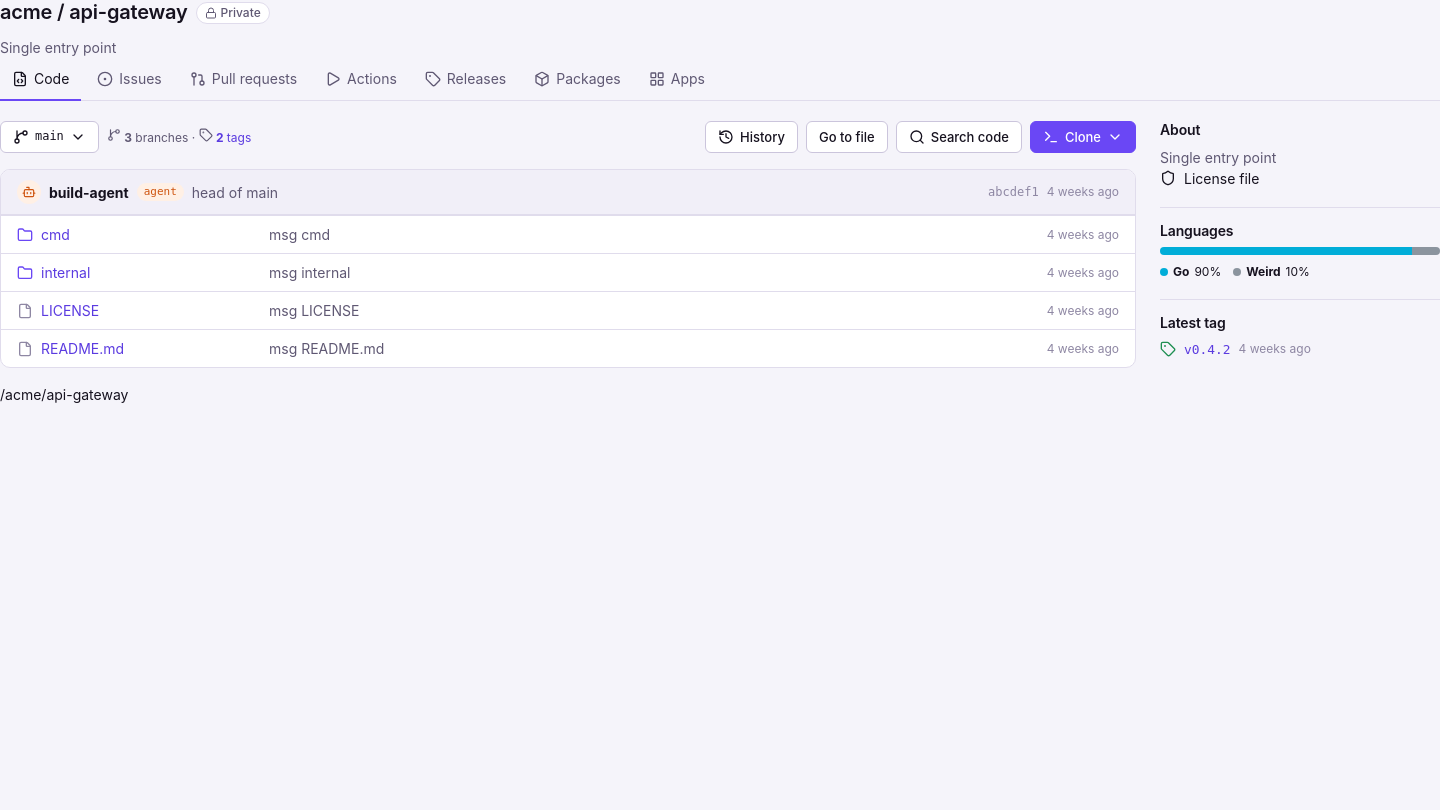
Test: CodeBrowser › cambia ref dal selettore (anche con barra nel nome) e ricarica
Check: the element named "Files" is shown, box [0,169,1136,368]
Click the button with aria-label "Switch branch or tag". click: [49, 137]
box: [0,121,99,153]
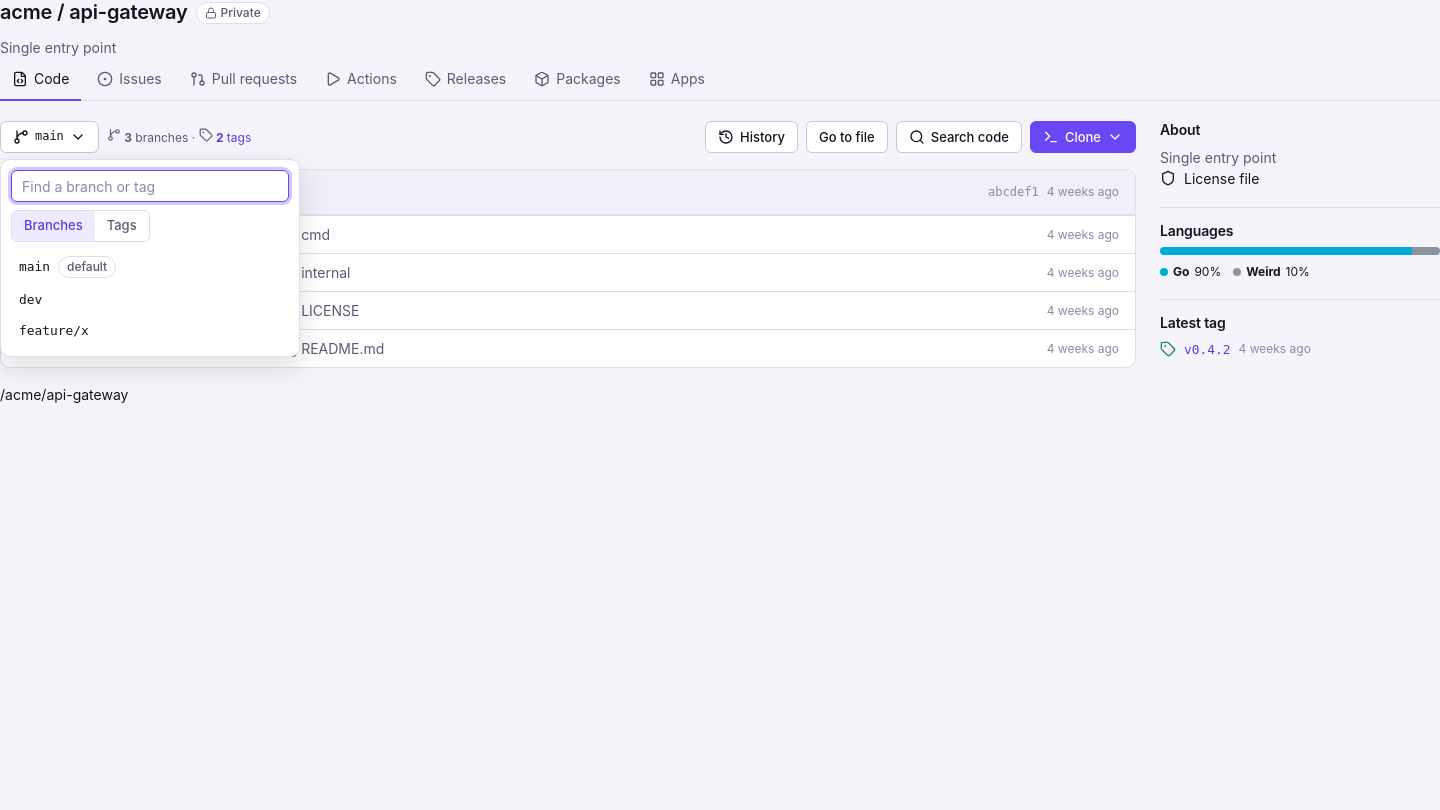
Type "feat" into the field labelled "Find a branch or tag". click: [150, 186]
box: [11,170,289,202]
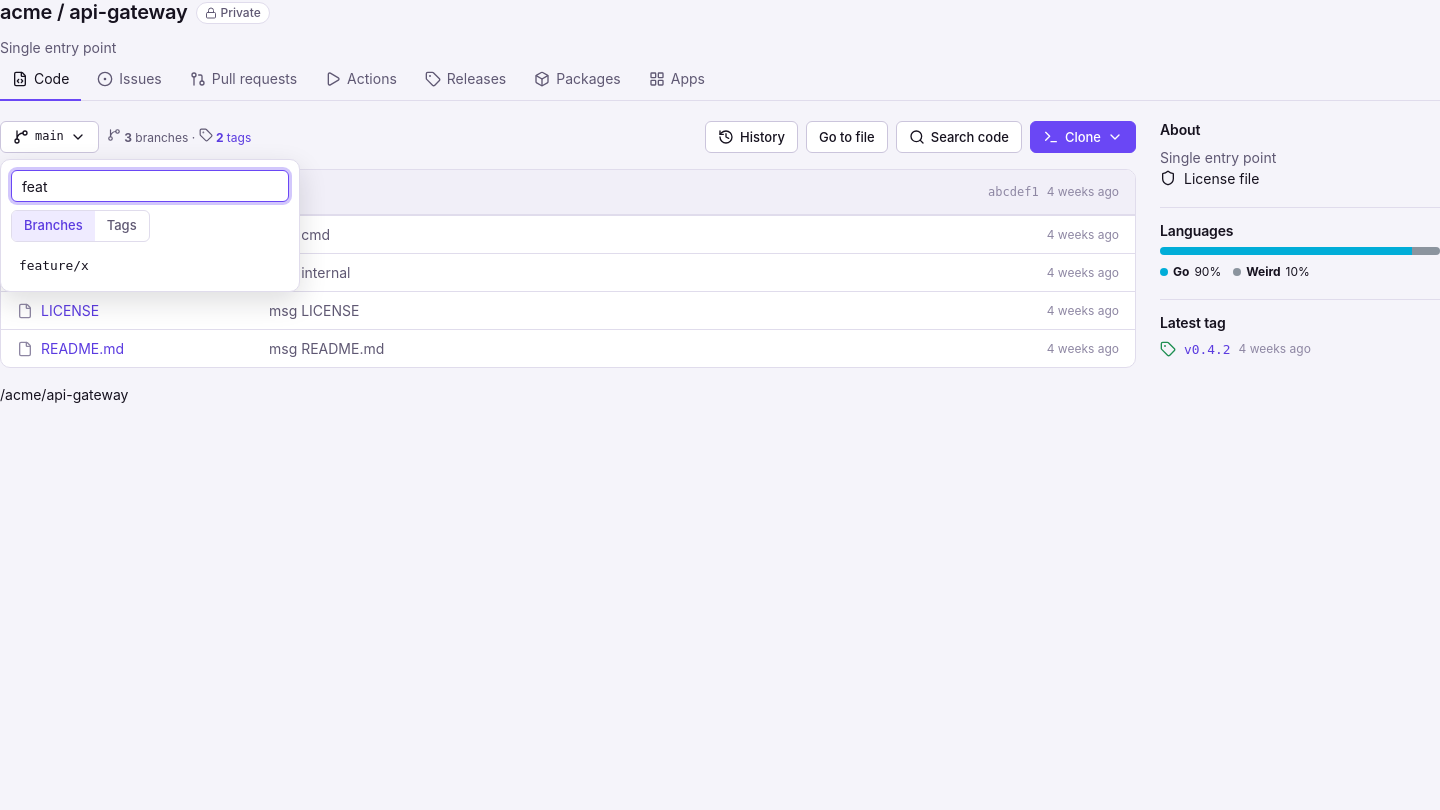
Check: the link "dev" is gone
Click the link "feature/x". click: [54, 265]
box: [19,258,89,272]
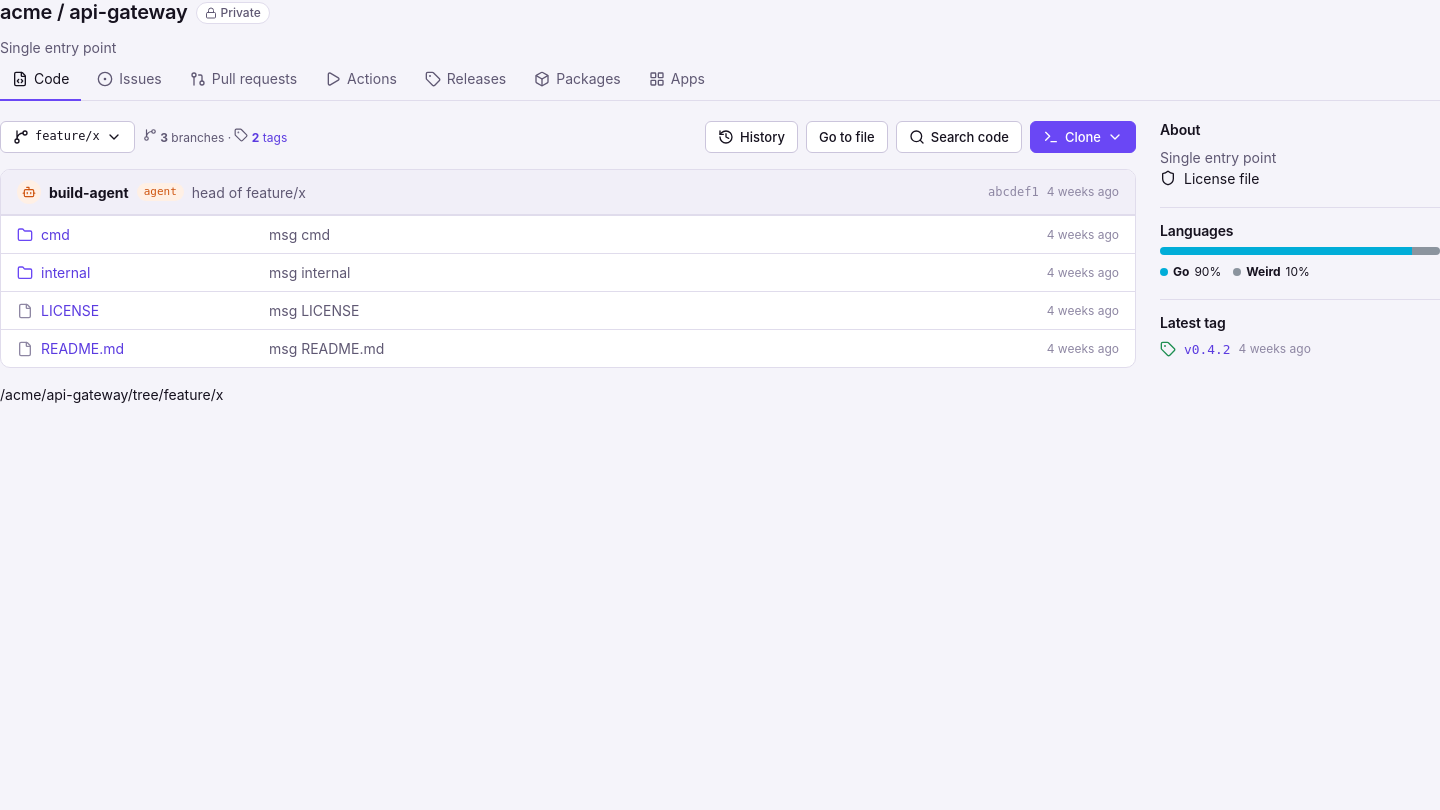
Check: the text with test id "where" reads "/acme/api-gateway/tree/feature/x", box [0,386,223,403]
Check: the button with aria-label "current: feature/x" is shown, box [0,121,135,153]
